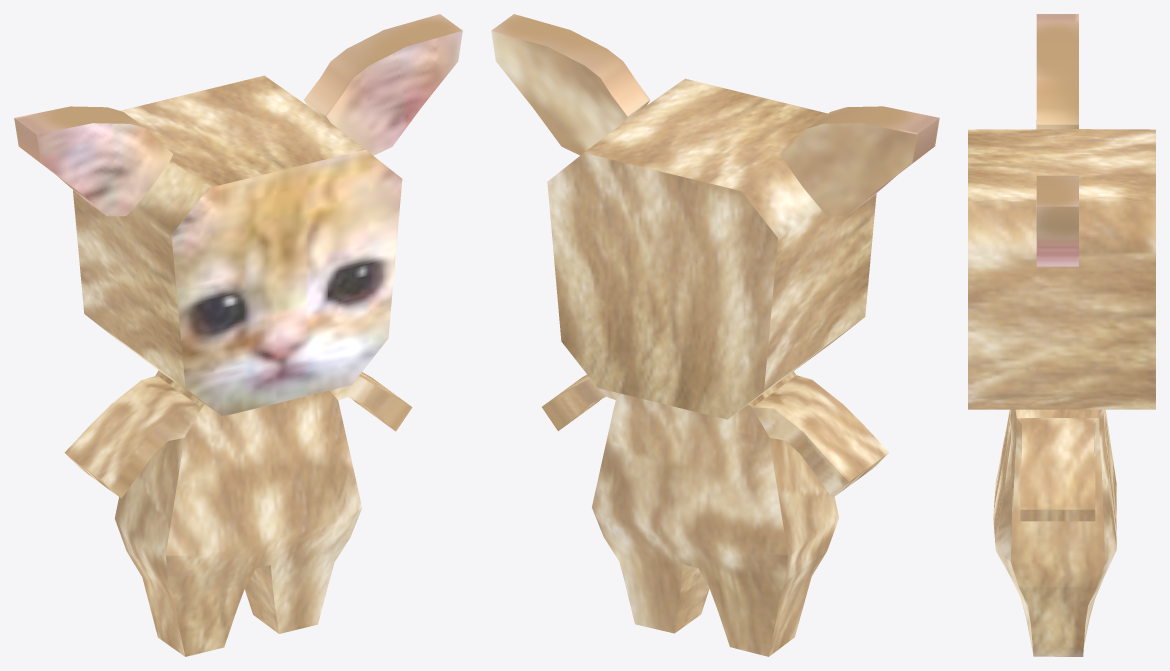
Rendered from petGAto.glb.
3 renders of one model, left to right at view 1: azimuth 30°, elevation 25°; view 2: azimuth 150°, elevation 25°; view 3: azimuth 270°, elevation 25°, orthographic. The views are drawn at different scales.
Visible parts, largest first — view 1: cat; view 2: cat; view 3: cat.
Boxes of the visible parts, x1,y1,x2,y2 form: cat: (14,14,462,656); cat: (491,14,939,656); cat: (968,14,1155,656).
Size of the model in its own units: 0.0184 by 0.023 by 0.0076.
1 material, 1 textured.
